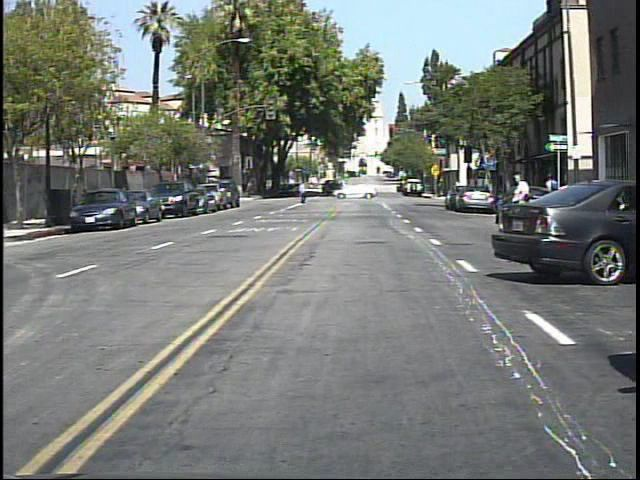person: (506, 167, 538, 245), (543, 169, 563, 216), (296, 177, 314, 209)
